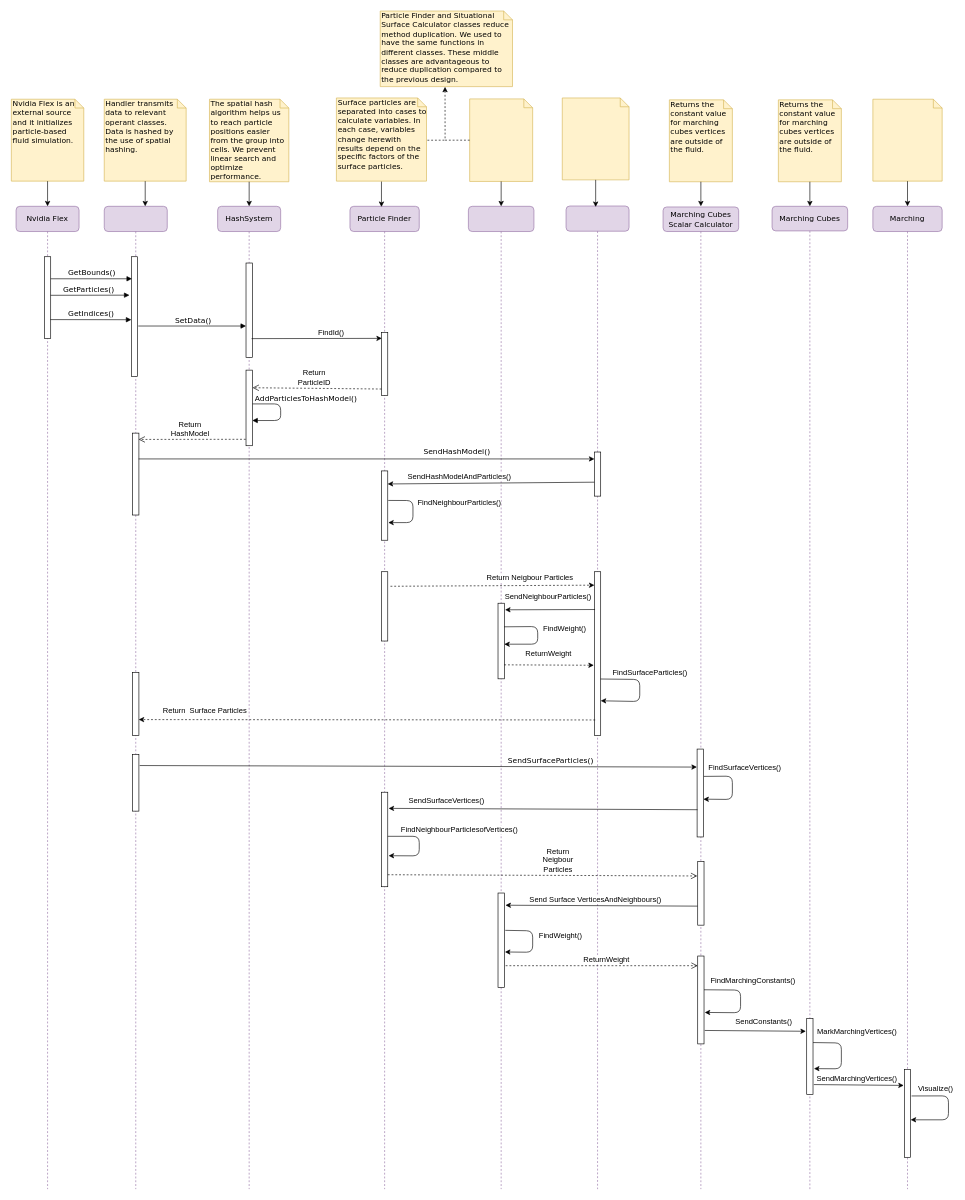
Image size: 965x1200. Some labels were removed from this diagram. The shapes that lost their labels are listed below. From the top down, each one's box as (x1, y1, x2, y2) in pixels, then its label:
(469, 98, 533, 181): Surface particles are determined based on color field quantity.
(562, 97, 629, 180): Group neighbor particles for each vertex.
(872, 99, 942, 181): Visualization made by renderer via the marching cubes algorithm.
(104, 206, 167, 1189): Handler
(468, 206, 534, 1189): Situational Surface Calculator
(565, 205, 629, 1189): Surface Recognizer
